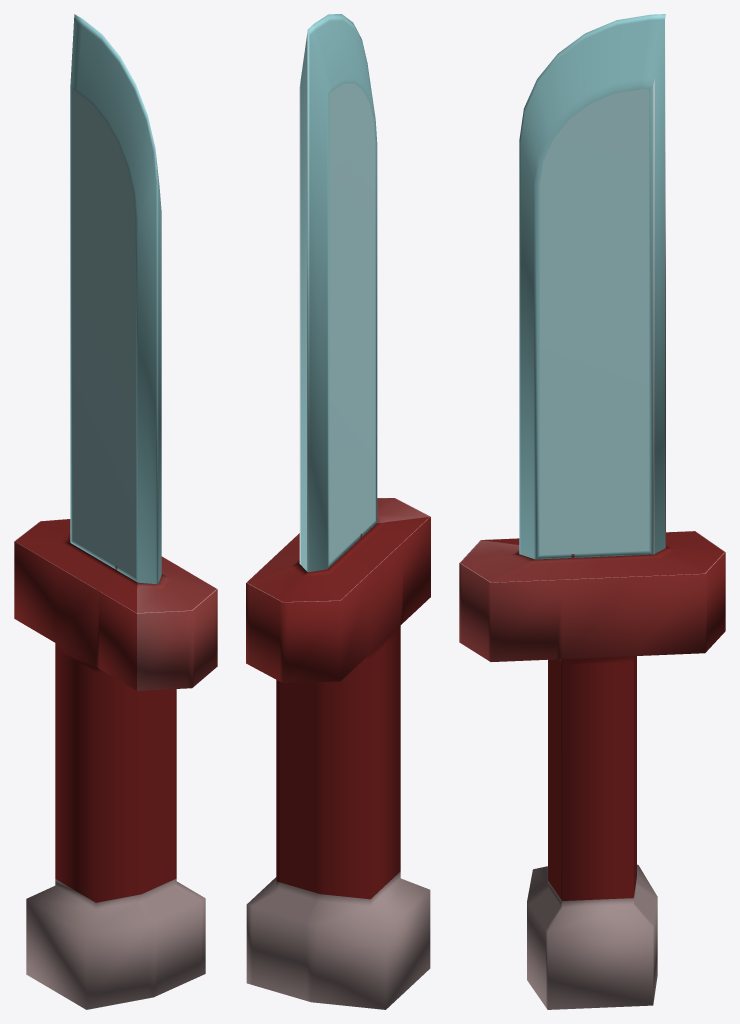
Rendered from нож.fbx.
3 views of the same model, side by side, from view 1: azimuth 30°, elevation 25°; view 2: azimuth 150°, elevation 25°; view 3: azimuth 270°, elevation 25° (orthographic). The views are drawn at different scales.
Parts seen in each view (by area): view 1: Cube; view 2: Cube; view 3: Cube.
Part boxes in pixels (x1=…): Cube: x1=14, y1=14, x2=217, y2=1009; Cube: x1=246, y1=14, x2=430, y2=1009; Cube: x1=459, y1=14, x2=725, y2=1009.
Size of the model in its own units: 59.76 by 395 by 99.3.
